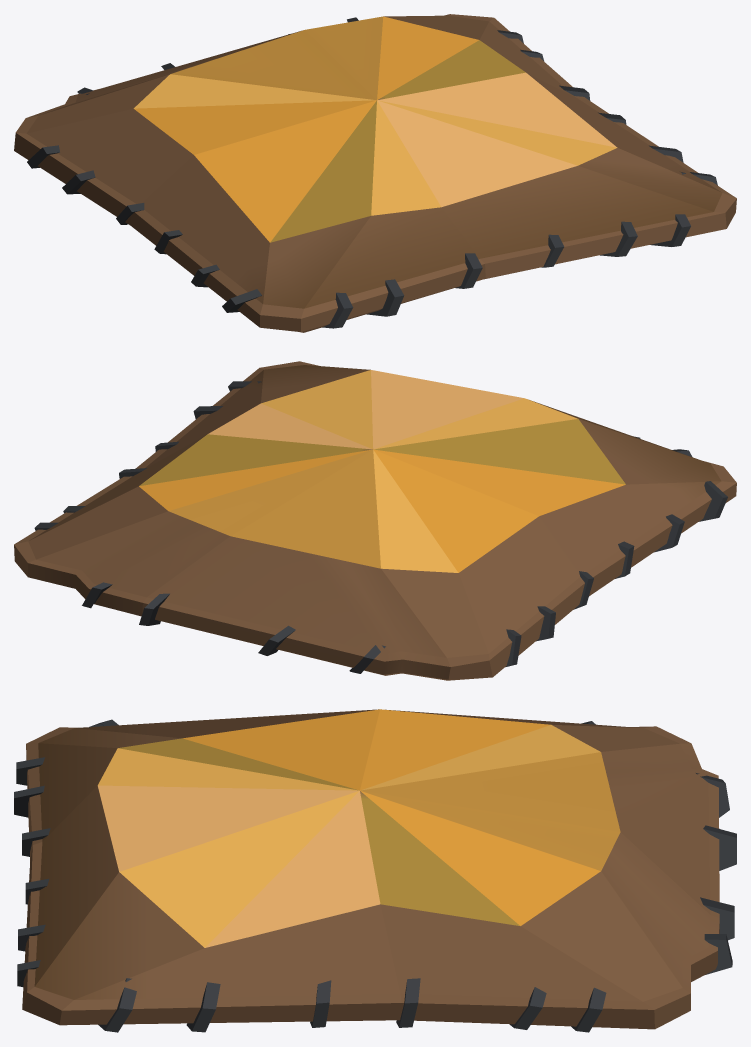
The model's file is SM_Prop_Pillow_06.fbx.
3 renders of one model, top to bottom at view 1: azimuth 30°, elevation 25°; view 2: azimuth 150°, elevation 25°; view 3: azimuth 270°, elevation 25°, orthographic. The views are drawn at different scales.
Parts seen in each view (by area): view 1: SM_Prop_Pillow_06; view 2: SM_Prop_Pillow_06; view 3: SM_Prop_Pillow_06.
Boxes of the visible parts, x1=… form: SM_Prop_Pillow_06: x1=14, y1=14, x2=736, y2=332; SM_Prop_Pillow_06: x1=14, y1=361, x2=736, y2=680; SM_Prop_Pillow_06: x1=14, y1=709, x2=736, y2=1032.
Size of the model in its own units: 0.608 by 0.1198 by 0.6434.
1 material, 1 textured.
